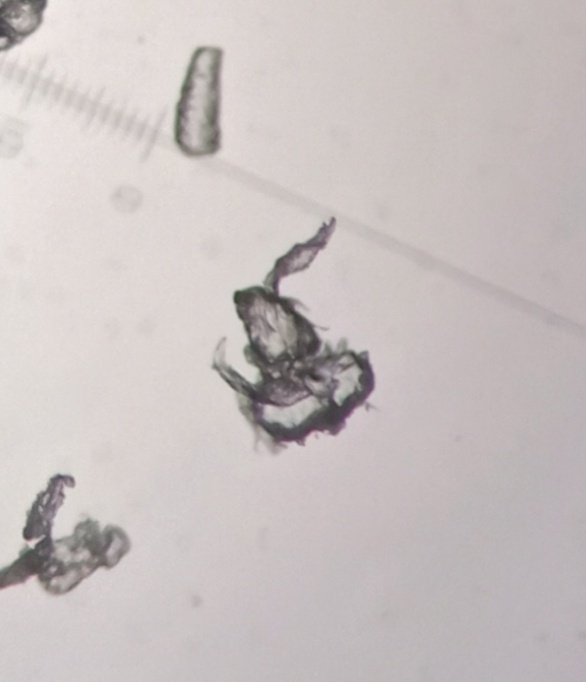microplastic: (203, 207, 386, 461), (2, 463, 133, 604), (164, 40, 238, 161)
